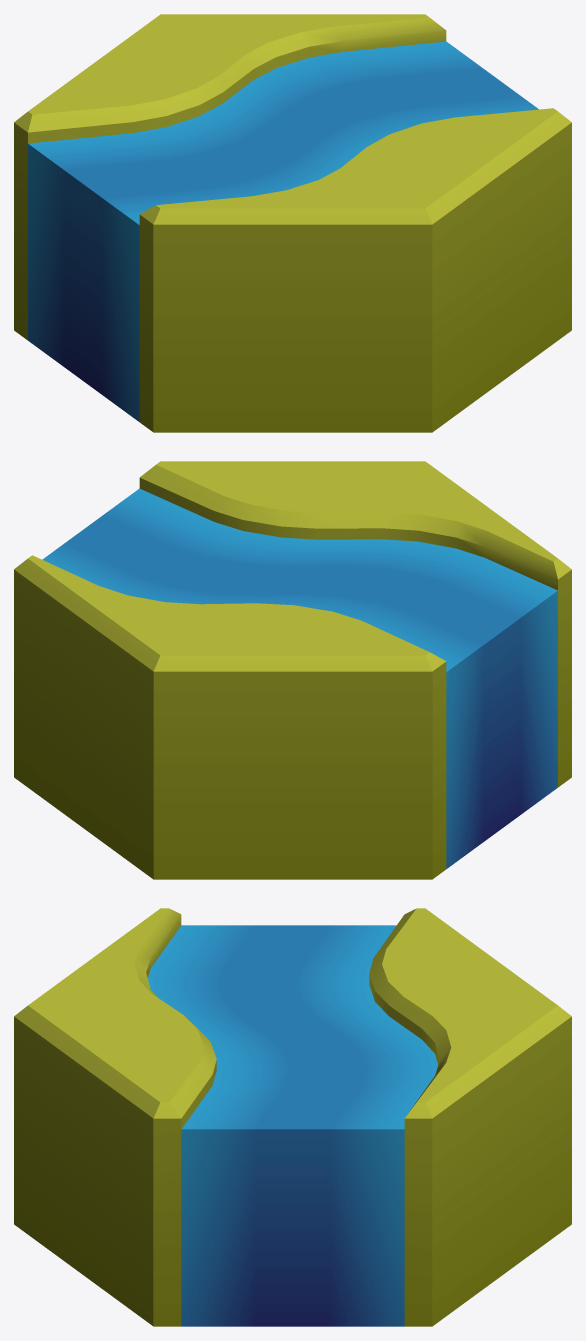
Rendered from kaykit-medieval-hexagon-pack-hex-river-a-curvy.glb.
3 renders of one model, top to bottom at view 1: azimuth 30°, elevation 25°; view 2: azimuth 150°, elevation 25°; view 3: azimuth 270°, elevation 25°, orthographic.
Parts seen in each view (by area): view 1: hex_river_A_curvy; view 2: hex_river_A_curvy; view 3: hex_river_A_curvy.
Boxes of the visible parts, box(x1,y1,x2,y2) form: hex_river_A_curvy: box(14, 14, 571, 432); hex_river_A_curvy: box(14, 461, 571, 879); hex_river_A_curvy: box(14, 908, 571, 1326).
Bounding box in the file's own units: 2 × 1 × 2.31.
Materials: 1 (1 with a texture image).
